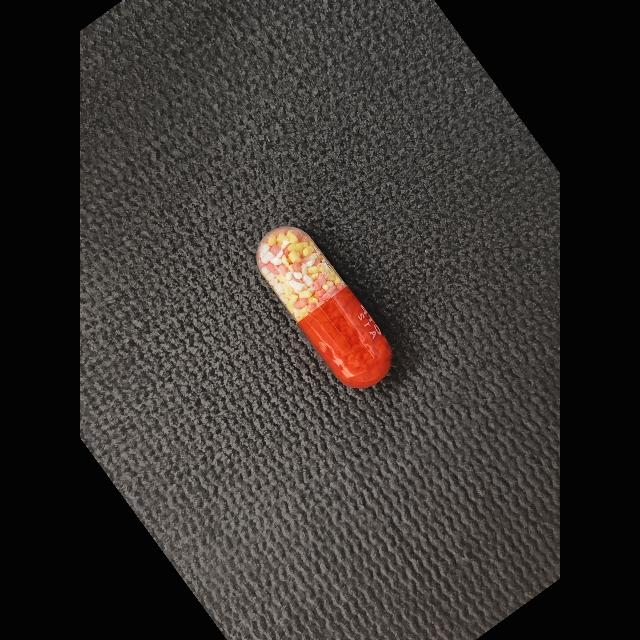Intact Capsule: (256, 226, 392, 388)
